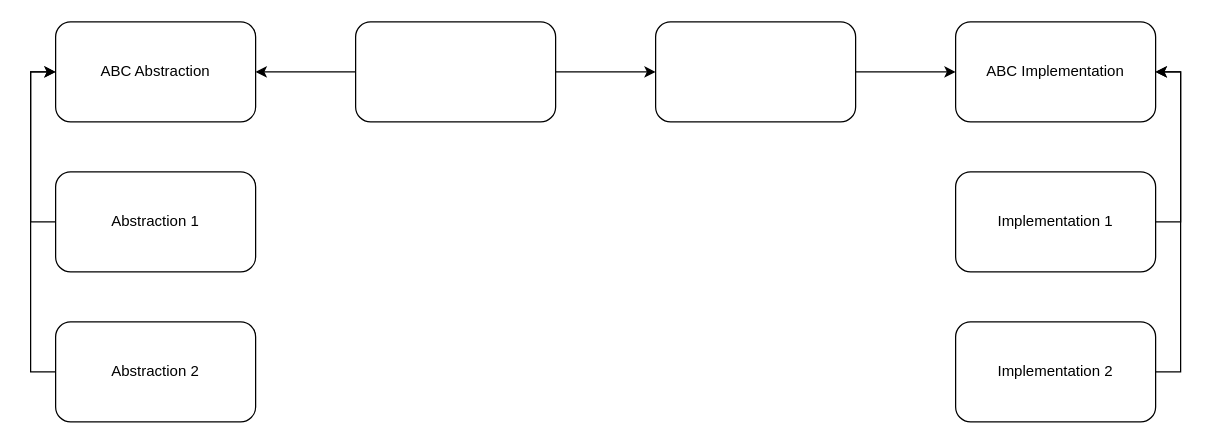
Image size: 1213x444. Some labels were removed from this diagram. The centre of each missing label's shape, as x and y in pixels:
Client: (x=455, y=71)
Implementaion object: (x=755, y=71)
